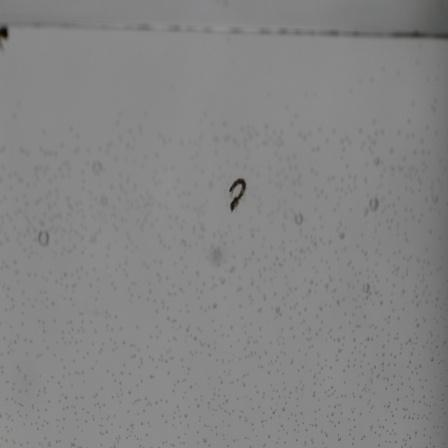Jentik-Nyamuk: (222, 172, 253, 217)
